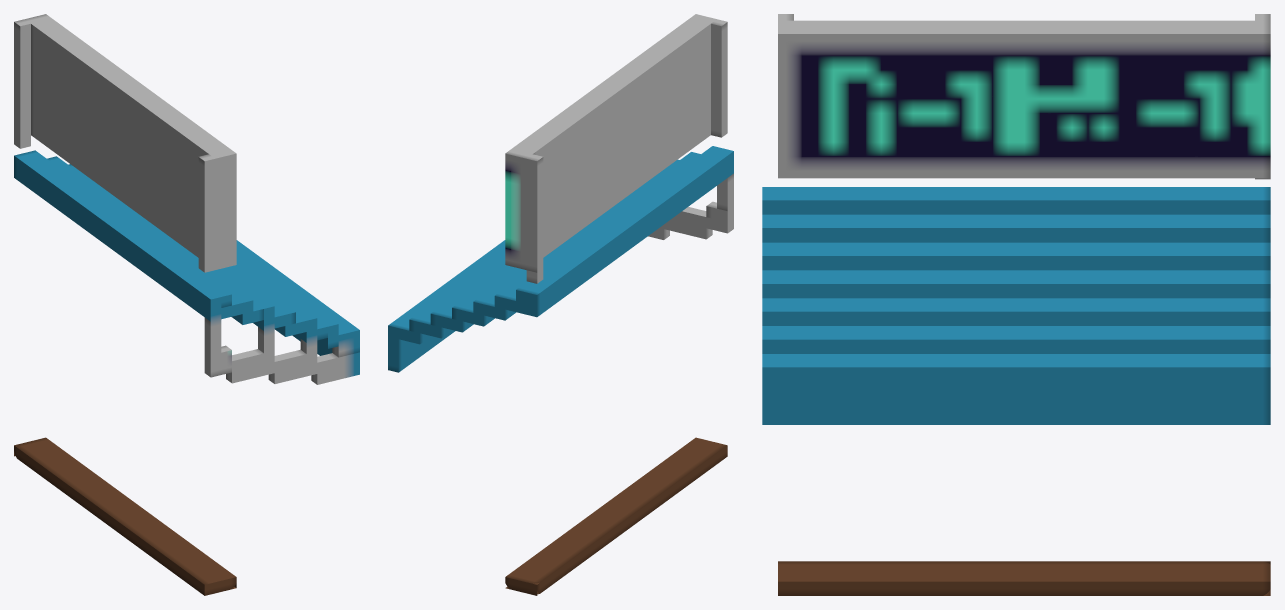
Rendered from restauracja_daszek.dae.
3 views of the same model, side by side, from view 1: azimuth 30°, elevation 25°; view 2: azimuth 150°, elevation 25°; view 3: azimuth 270°, elevation 25° (orthographic). The views are drawn at different scales.
Parts seen in each view (by area): view 1: Content; view 2: Content; view 3: Content.
Boxes of the visible parts, x1,y1,x2,y2 form: Content: [14, 14, 359, 595]; Content: [388, 14, 733, 595]; Content: [762, 14, 1270, 595].
Size of the model in its own units: 14 by 39 by 32.
Materials: 1 (1 with a texture image).
